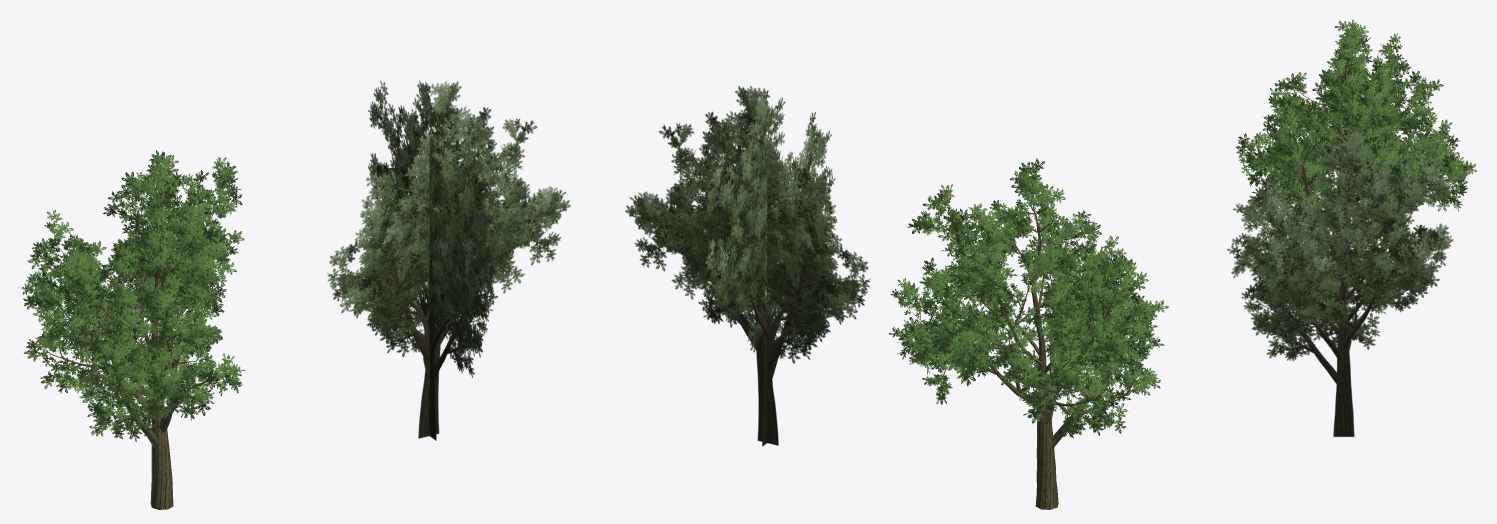
Rendered from tree9.glb.
The picture shows the model from 3 angles, left to right: view 1: azimuth 30°, elevation 25°; view 2: azimuth 150°, elevation 25°; view 3: azimuth 270°, elevation 25°; orthographic projection. The views are drawn at different scales.
Visible parts, largest first — view 1: Tree9_High, Empty.017; view 2: Tree9_High, Empty.017; view 3: Empty.017, Tree9_High.
Boxes of the visible parts, left/top/right/bottom form: Tree9_High: left=19, top=150, right=244, bottom=509; Empty.017: left=327, top=80, right=570, bottom=440; Tree9_High: left=889, top=158, right=1168, bottom=509; Empty.017: left=625, top=85, right=870, bottom=446; Empty.017: left=1227, top=128, right=1453, bottom=436; Tree9_High: left=1236, top=19, right=1476, bottom=297.
Bounding box in the file's own units: 105 × 69.09 × 53.15.
Materials: 3 (3 with a texture image).
